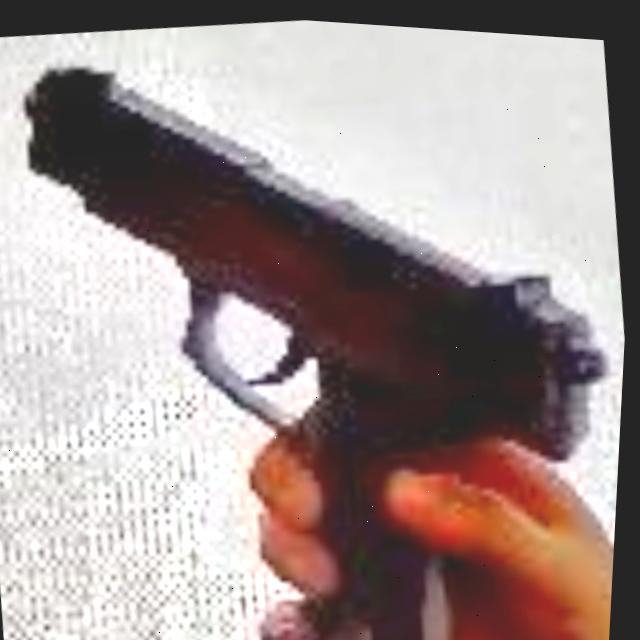pistol: (0, 0, 640, 640), (24, 69, 619, 640)
